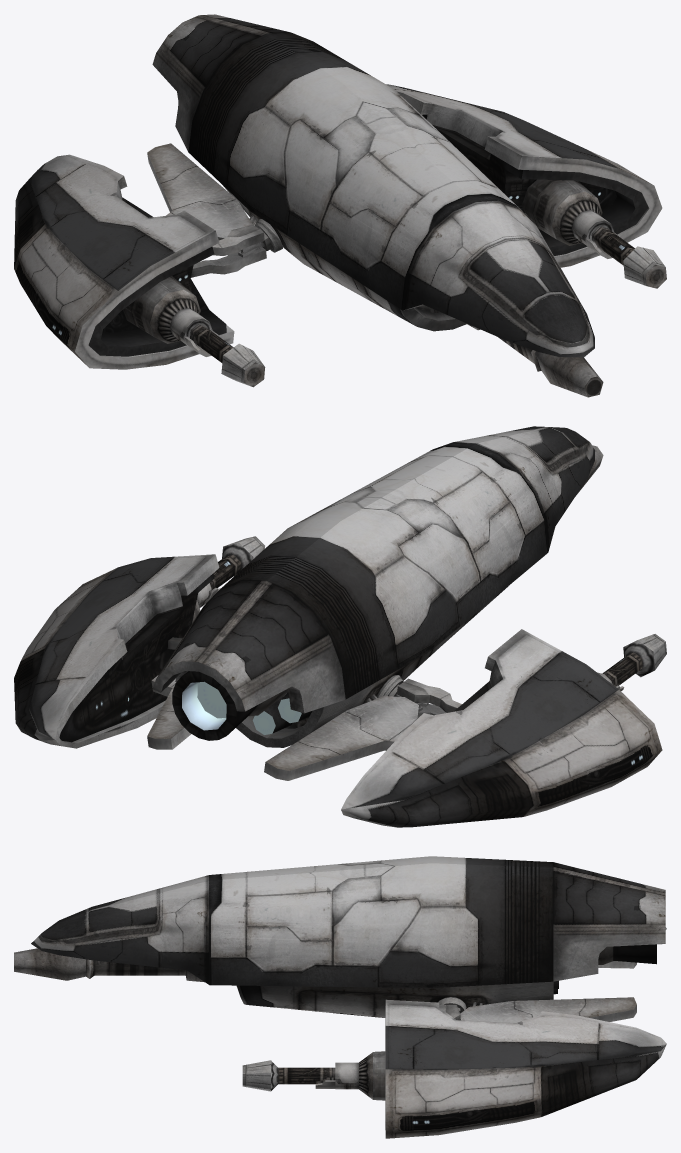
The model's file is 31870_lite.glb.
3 renders of one model, top to bottom at view 1: azimuth 30°, elevation 25°; view 2: azimuth 150°, elevation 25°; view 3: azimuth 270°, elevation 25°, orthographic. The views are drawn at different scales.
Parts seen in each view (by area): view 1: ship; view 2: ship; view 3: ship.
Part boxes in pixels (bbox=[...]): ship: bbox=[14, 14, 666, 397]; ship: bbox=[14, 426, 666, 827]; ship: bbox=[14, 856, 666, 1138].
Bounding box in the file's own units: 0.0869 × 0.0301 × 0.1014.
Materials: 1 (1 with a texture image).
